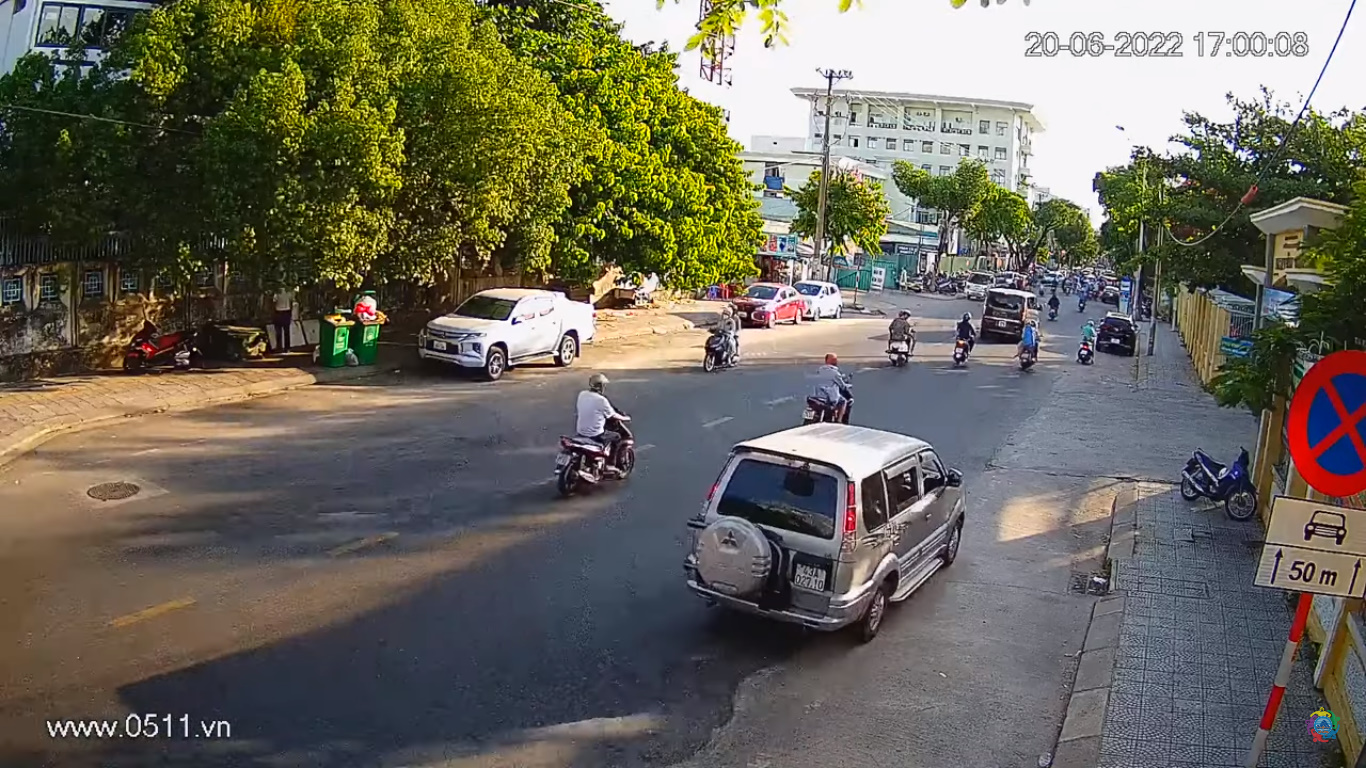car: (687, 420, 967, 647)
